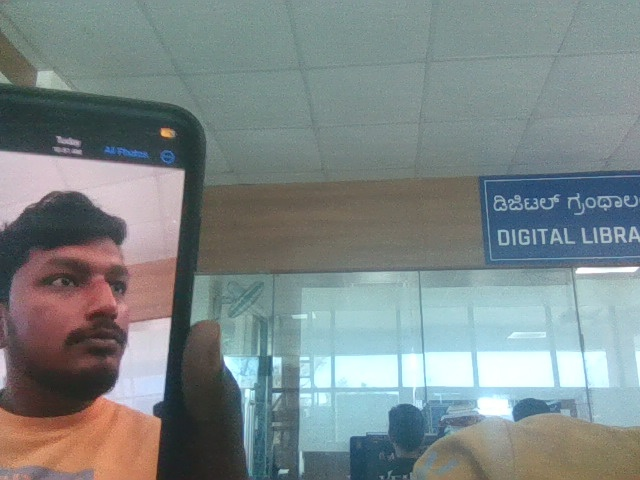fake: (0, 156, 175, 404)
